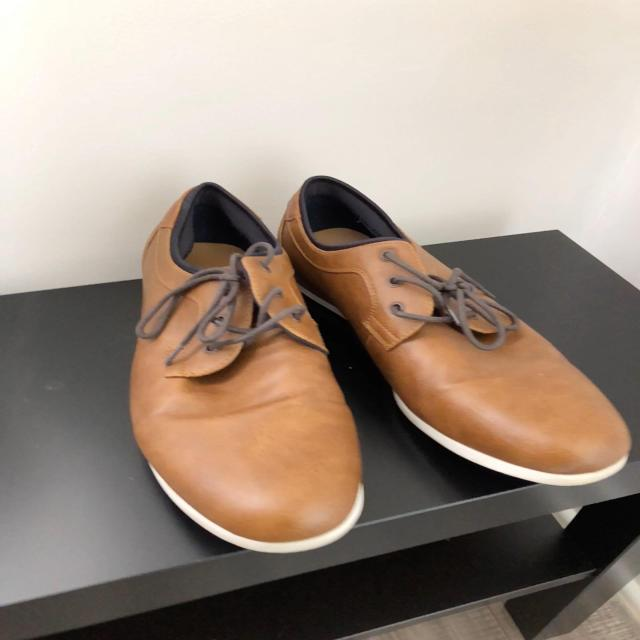shoe: (279, 176, 632, 487), (130, 185, 363, 553)
